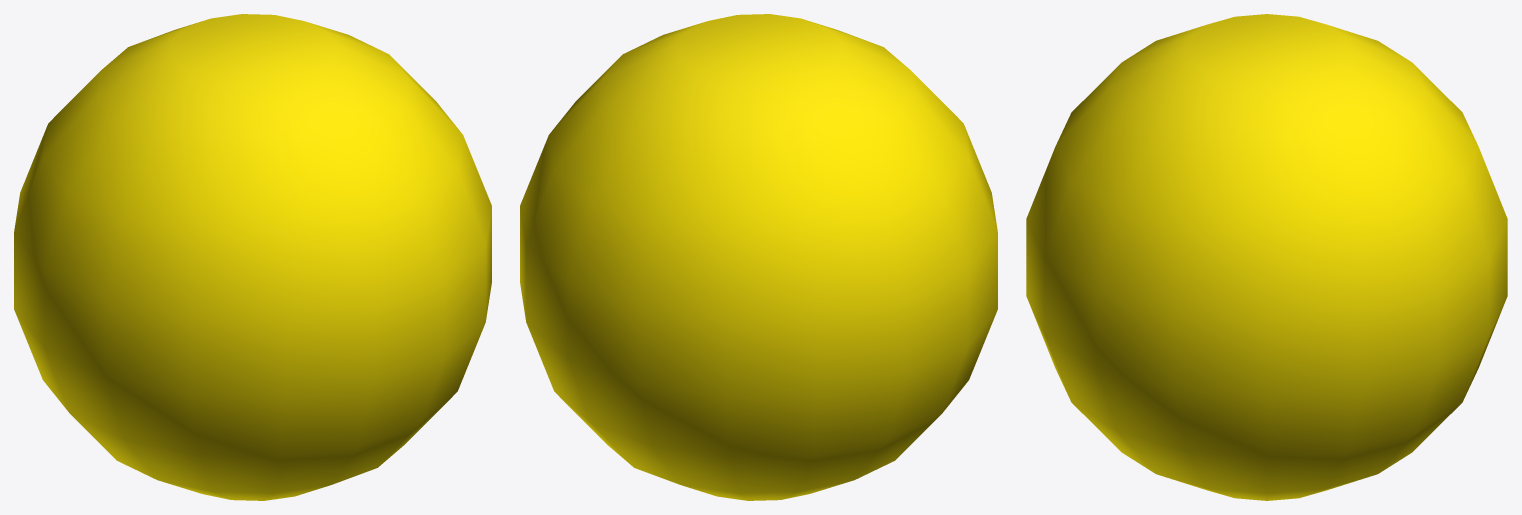
Rendered from diff_11.2.fbx.
3 renders of one model, left to right at view 1: azimuth 30°, elevation 25°; view 2: azimuth 150°, elevation 25°; view 3: azimuth 270°, elevation 25°, orthographic.
Parts seen in each view (by area): view 1: Sphere.008; view 2: Sphere.008; view 3: Sphere.008.
Part boxes in pixels (x1=…): Sphere.008: x1=14, y1=14, x2=491, y2=500; Sphere.008: x1=520, y1=14, x2=997, y2=500; Sphere.008: x1=1026, y1=14, x2=1507, y2=500.
Size of the model in its own units: 259 by 247 by 259.
